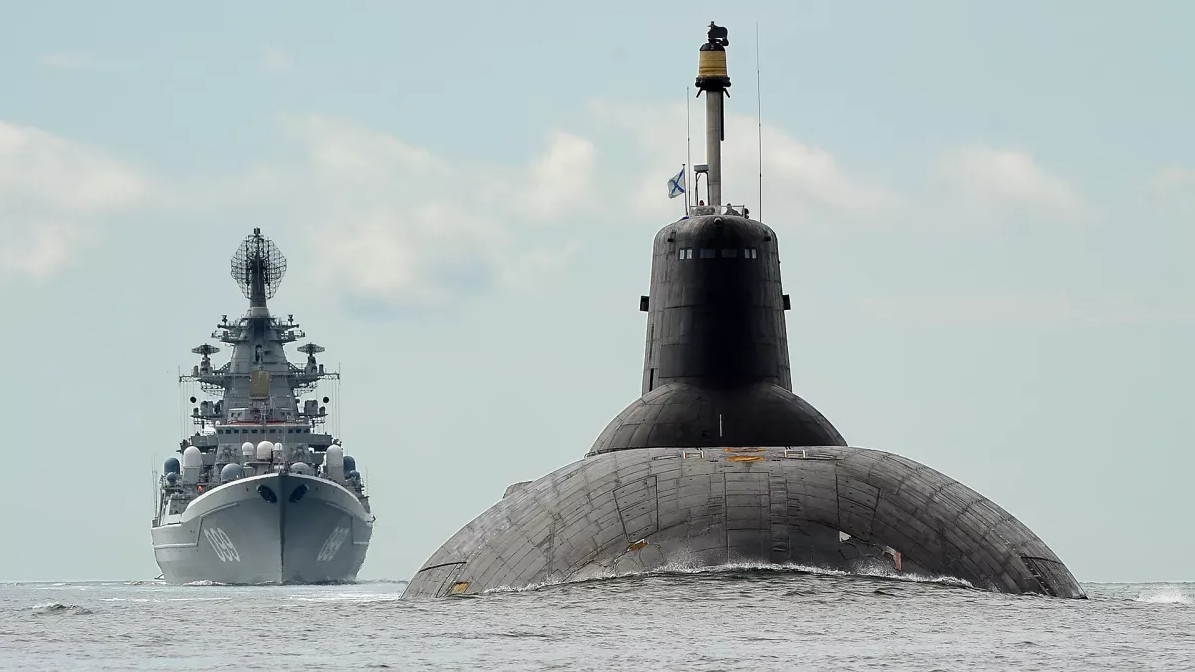warship: (137, 231, 387, 590)
